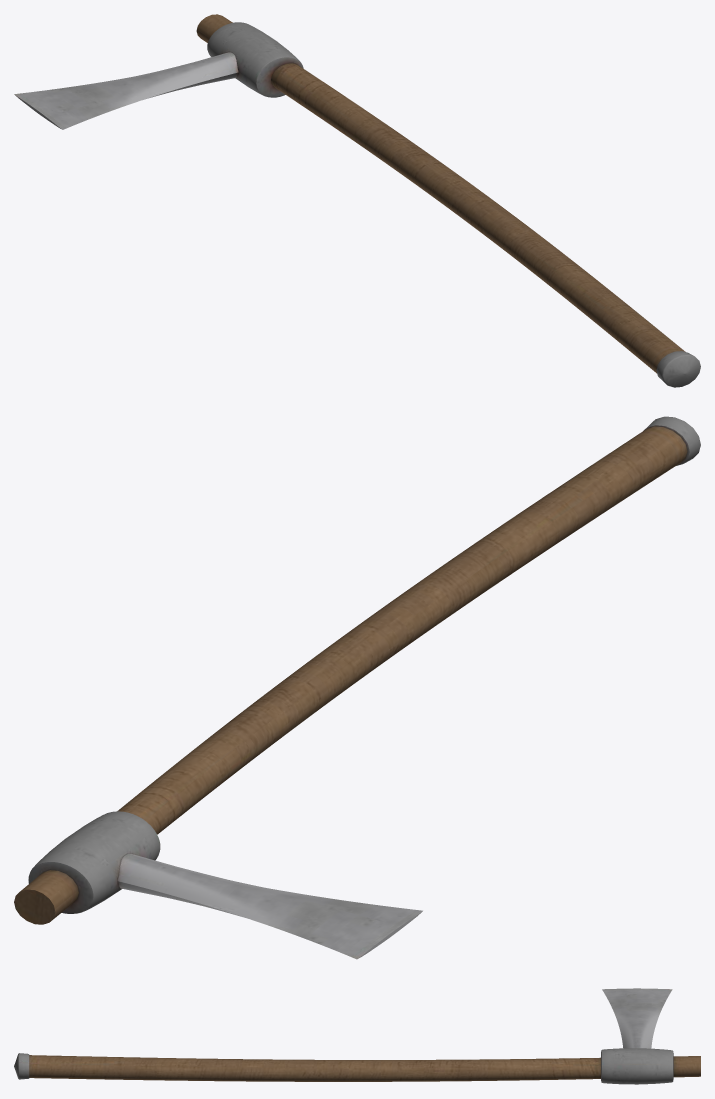
Rendered from narrow_axe.glb.
3 views of the same model, one above another, from view 1: azimuth 30°, elevation 25°; view 2: azimuth 150°, elevation 25°; view 3: azimuth 270°, elevation 25° (orthographic). The views are drawn at different scales.
Visible parts, largest first — view 1: narrow_axe; view 2: narrow_axe; view 3: narrow_axe.
Part boxes in pixels (<box>): narrow_axe: <box>14,14,700,387</box>; narrow_axe: <box>14,416,700,959</box>; narrow_axe: <box>14,988,700,1084</box>.
Bounding box in the file's own units: 0.227 × 0.0378 × 0.755.
Materials: 1 (1 with a texture image).
